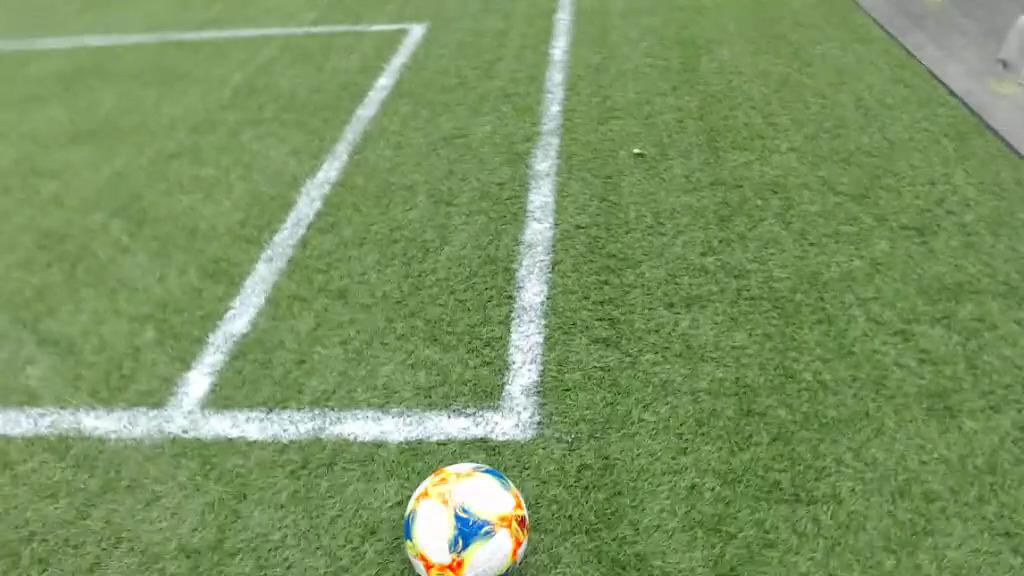ball: (405, 463, 528, 576)
